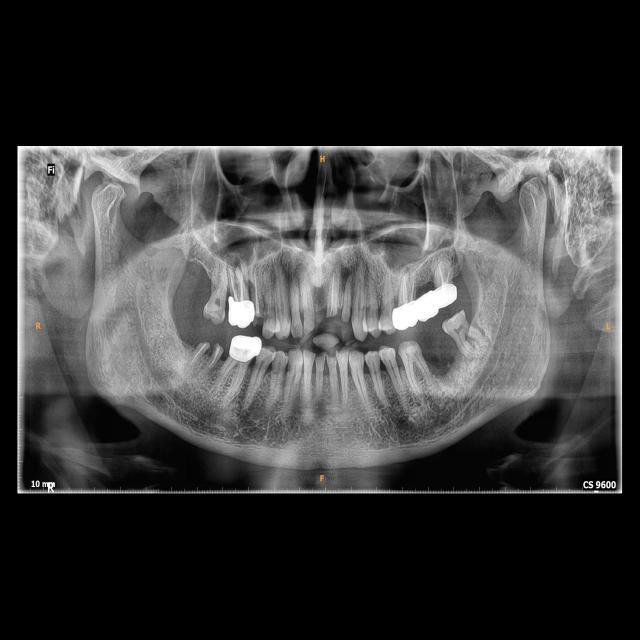dentin-curugu: (264, 301, 272, 328)
kanal-tedavisi: (228, 270, 243, 299), (399, 274, 415, 300), (189, 343, 206, 366), (205, 348, 223, 369), (252, 272, 260, 315), (436, 261, 451, 283), (327, 269, 335, 310)
kaplama: (227, 297, 255, 331), (392, 301, 419, 330), (233, 334, 261, 361), (435, 283, 458, 309)
kirik: (201, 337, 226, 353), (322, 307, 343, 324)
kopru: (414, 288, 440, 324)
